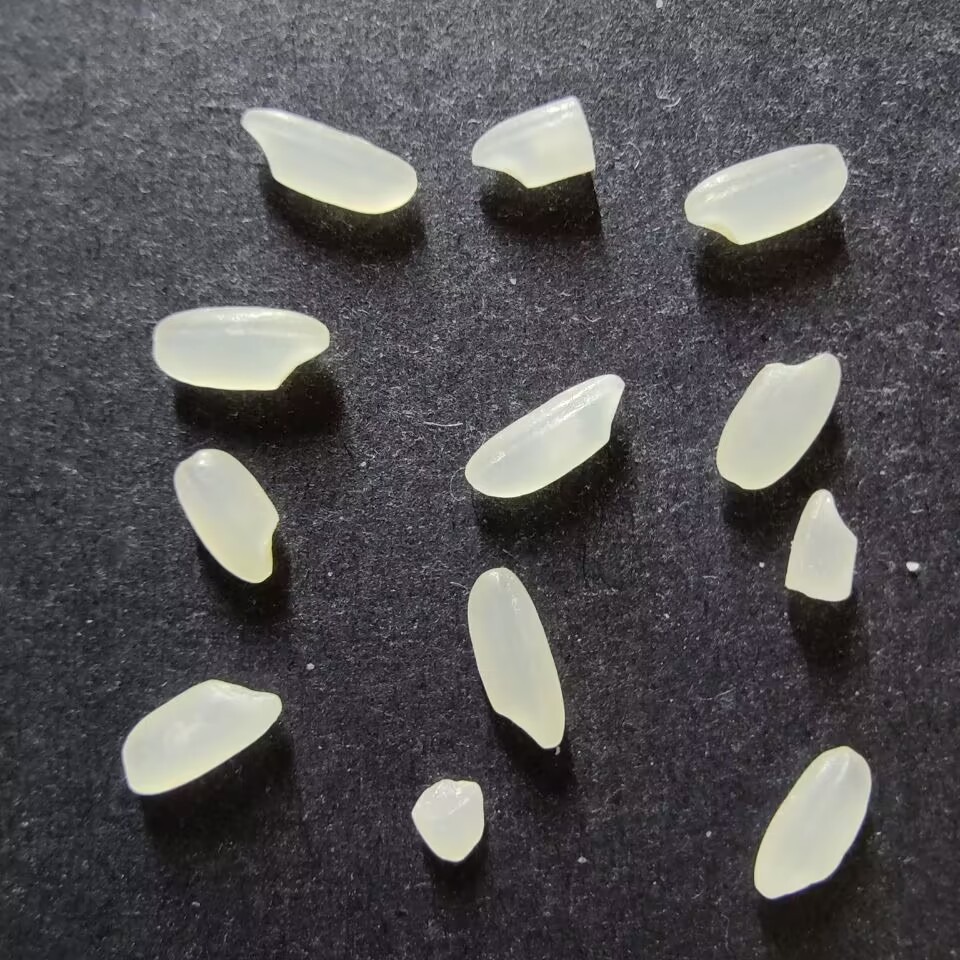broken: (470, 95, 595, 188), (783, 488, 858, 601), (409, 777, 485, 862)
rice: (463, 372, 625, 498), (240, 108, 417, 214), (122, 679, 282, 795), (752, 745, 871, 899), (466, 567, 564, 749), (715, 351, 841, 490), (683, 142, 848, 245), (152, 305, 330, 390), (173, 448, 279, 583)
